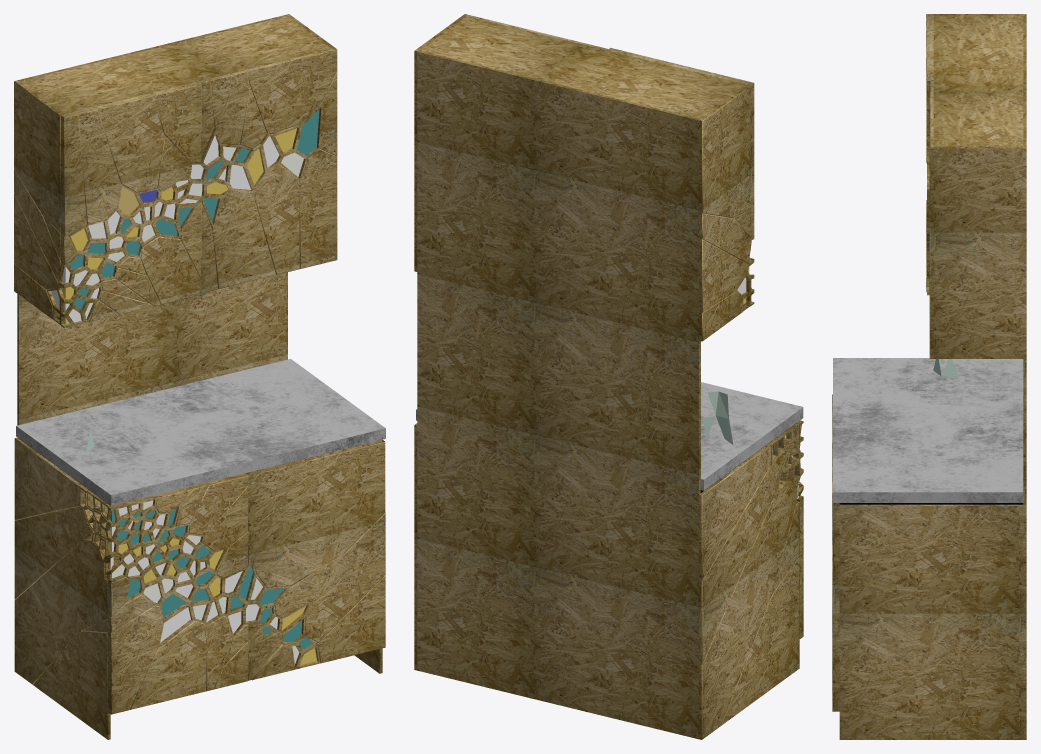
Rendered from cabinet.glb.
The picture shows the model from 3 angles, left to right: view 1: azimuth 30°, elevation 25°; view 2: azimuth 150°, elevation 25°; view 3: azimuth 270°, elevation 25°; orthographic projection. The views are drawn at different scales.
Visible parts, largest first — view 1: 021_ID117, 196_ID1252, 160_ID1038, 283_ID1716, 004_ID22, 039_ID217, 240_ID1490, 022_ID131, 023_ID140, 195_ID1222, 003_ID9, 220_ID1404; view 2: 003_ID9, 240_ID1490, 022_ID131, 023_ID140, 021_ID117, 283_ID1716, 009_ID63, 011_ID74, 039_ID217, 001_ID2300; view 3: 011_ID74, 021_ID117, 009_ID63, 022_ID131, 196_ID1252, 160_ID1038, 003_ID9, 283_ID1716, 008_ID54.
Part boxes in pixels (x1,y1,x2,y2): 021_ID117: (16,359,385,505); 196_ID1252: (198,48,337,294); 160_ID1038: (245,440,385,680); 283_ID1716: (61,81,201,328); 004_ID22: (19,272,287,424); 039_ID217: (107,473,248,714); 240_ID1490: (14,437,110,739); 022_ID131: (19,16,331,113); 023_ID140: (14,80,63,324); 195_ID1222: (248,461,306,530); 003_ID9: (17,15,287,438); 220_ID1404: (297,109,319,155); 003_ID9: (417,50,700,739); 240_ID1490: (699,423,800,739); 022_ID131: (419,16,747,118); 023_ID140: (699,85,750,341); 021_ID117: (416,382,803,490); 283_ID1716: (607,48,754,306); 009_ID63: (414,15,465,271); 011_ID74: (414,423,417,670); 039_ID217: (796,420,803,638); 001_ID2300: (702,391,733,444); 011_ID74: (839,504,1026,739); 021_ID117: (833,358,1023,502); 009_ID63: (933,147,1026,358); 022_ID131: (933,15,1023,146); 196_ID1252: (927,81,933,358); 160_ID1038: (832,467,839,711); 003_ID9: (1023,15,1026,504); 283_ID1716: (926,14,933,291); 008_ID54: (839,503,1023,504).
Size of the model in its own units: 105 by 214 by 63.76.
Materials: 15 (3 with a texture image).
